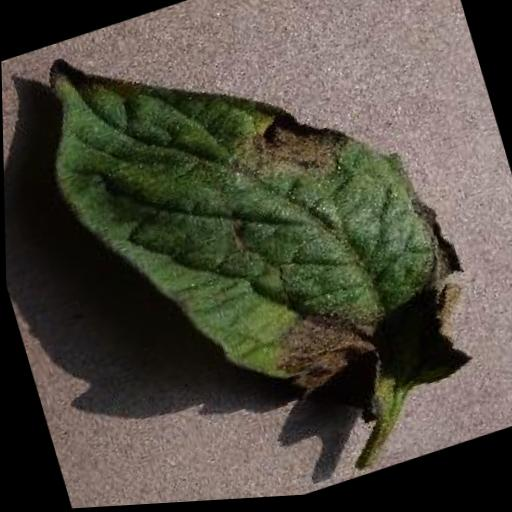Late Blight: (20, 0, 490, 498)
